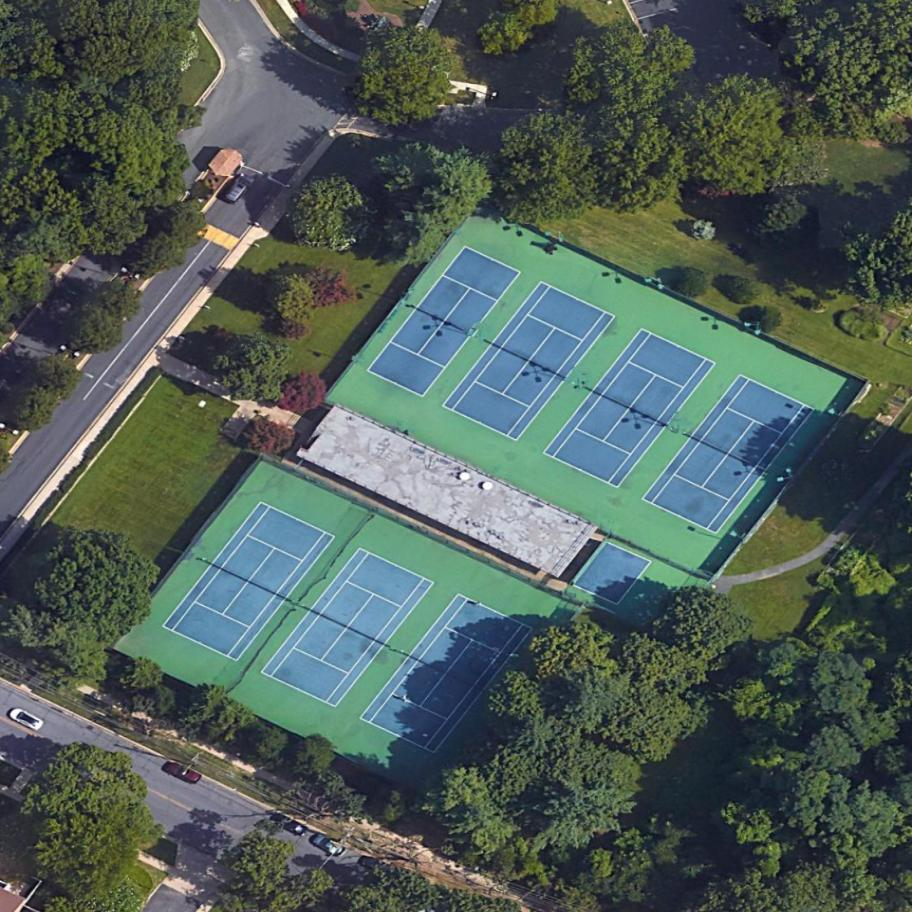small-vehicle: (220, 168, 257, 209), (267, 809, 311, 841), (308, 830, 350, 863), (5, 704, 46, 736), (164, 760, 203, 787)
